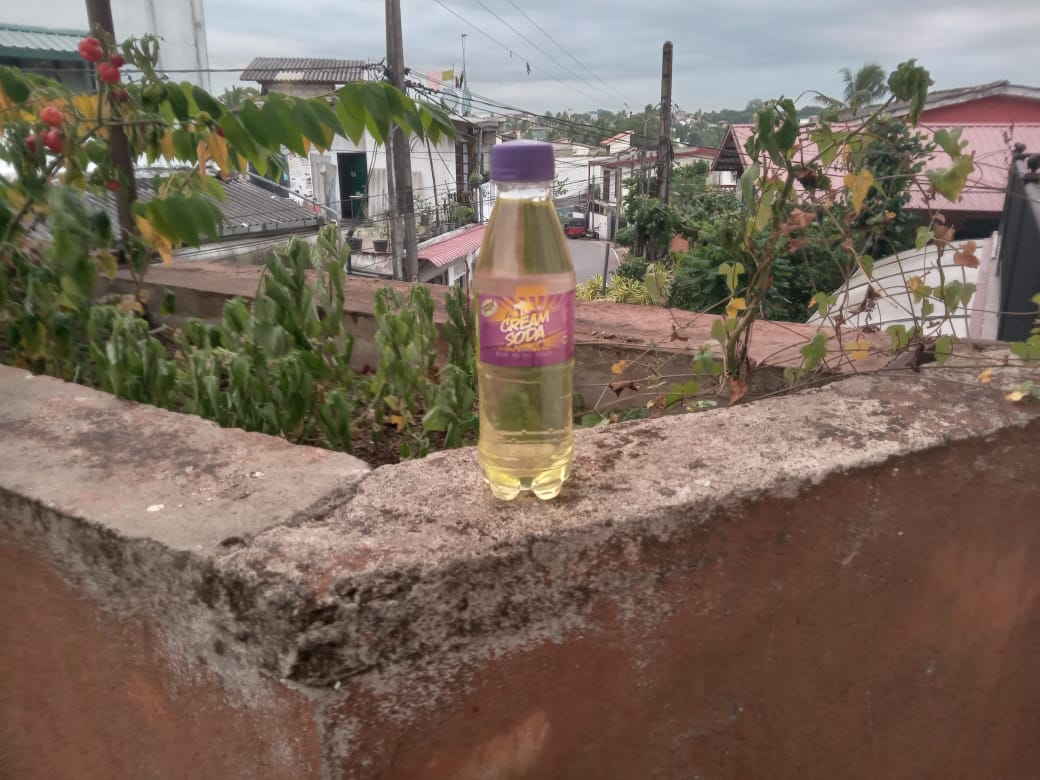Xs: (461, 138, 581, 511)
